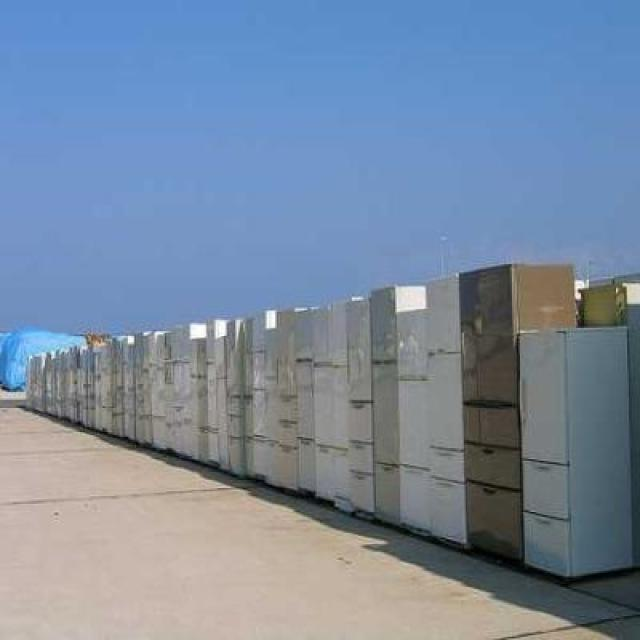refrigerator: (518, 324, 637, 577), (426, 272, 464, 550), (396, 311, 433, 535), (462, 263, 520, 402), (370, 286, 403, 520), (348, 296, 374, 526), (331, 300, 352, 502), (312, 308, 334, 500), (514, 266, 576, 332), (278, 311, 298, 486), (296, 310, 315, 490), (264, 330, 282, 484), (254, 307, 268, 480), (580, 285, 631, 328)
